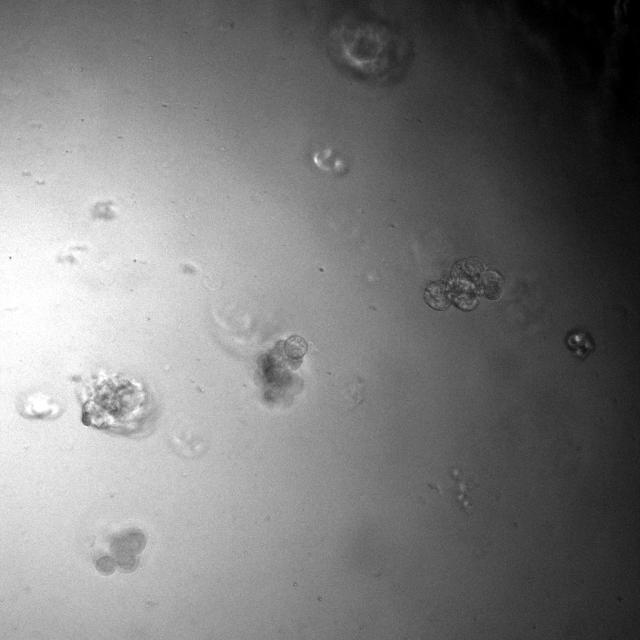organoid: (328, 14, 412, 83), (78, 371, 154, 436), (251, 333, 310, 407), (424, 257, 504, 311), (94, 527, 147, 575), (565, 328, 594, 359)
